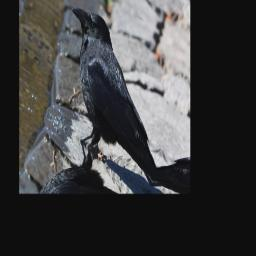Crow: (39, 0, 183, 193)
